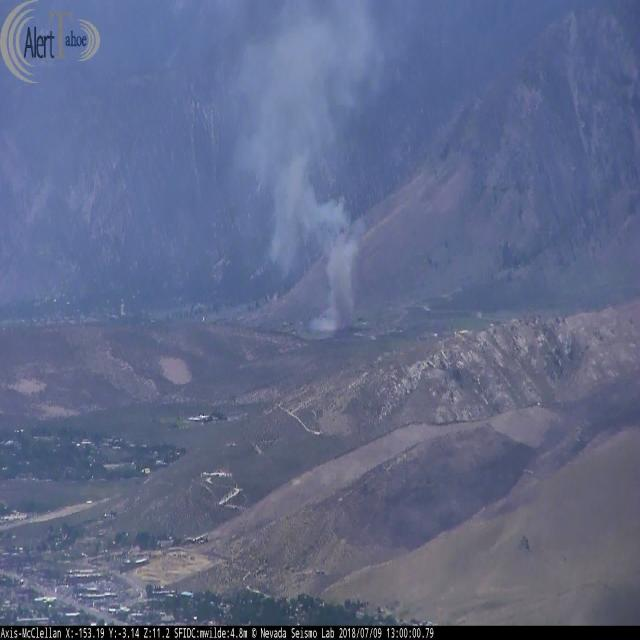smoke: (221, 2, 382, 337)
